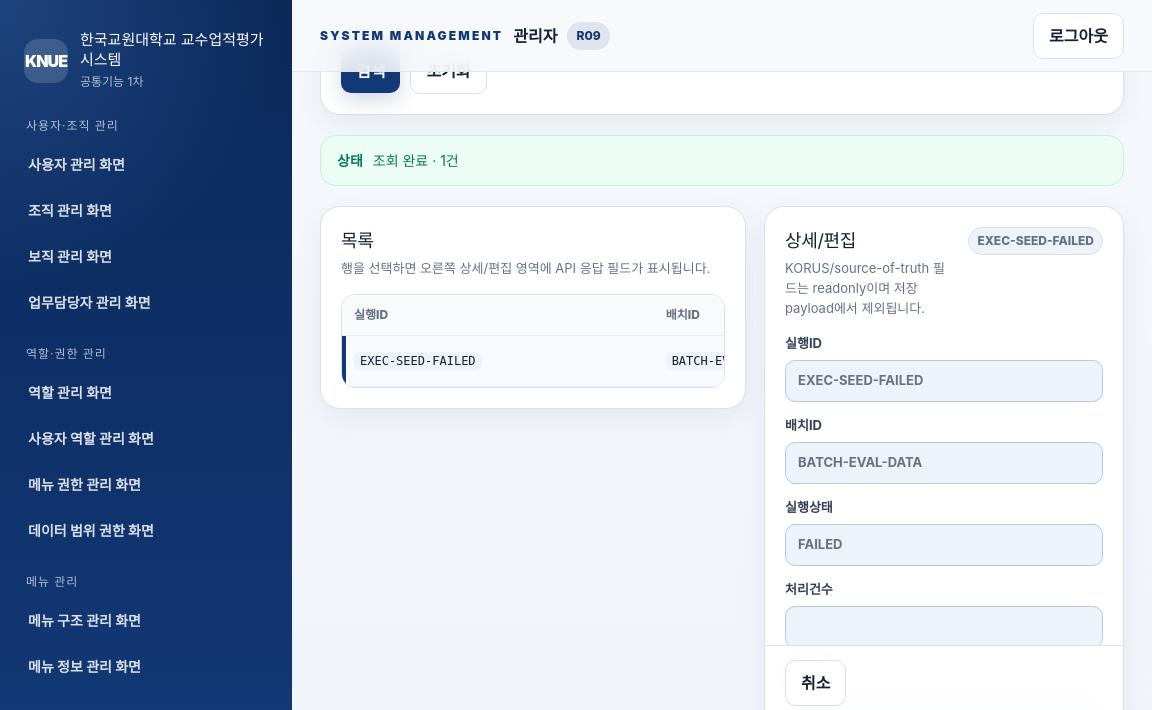
Scenario: 교수업적평가시스템 UI contract › renders batch management routes and loads batch result detail by selected execution
This screenshot has width=1152, height=710.
(page scrolled)
Click the text "EXEC-SEED-FAILED" in the row of "BATCH-EVAL-DATA".
click(418, 361)  # box [354,352,482,370]
(page scrolled)
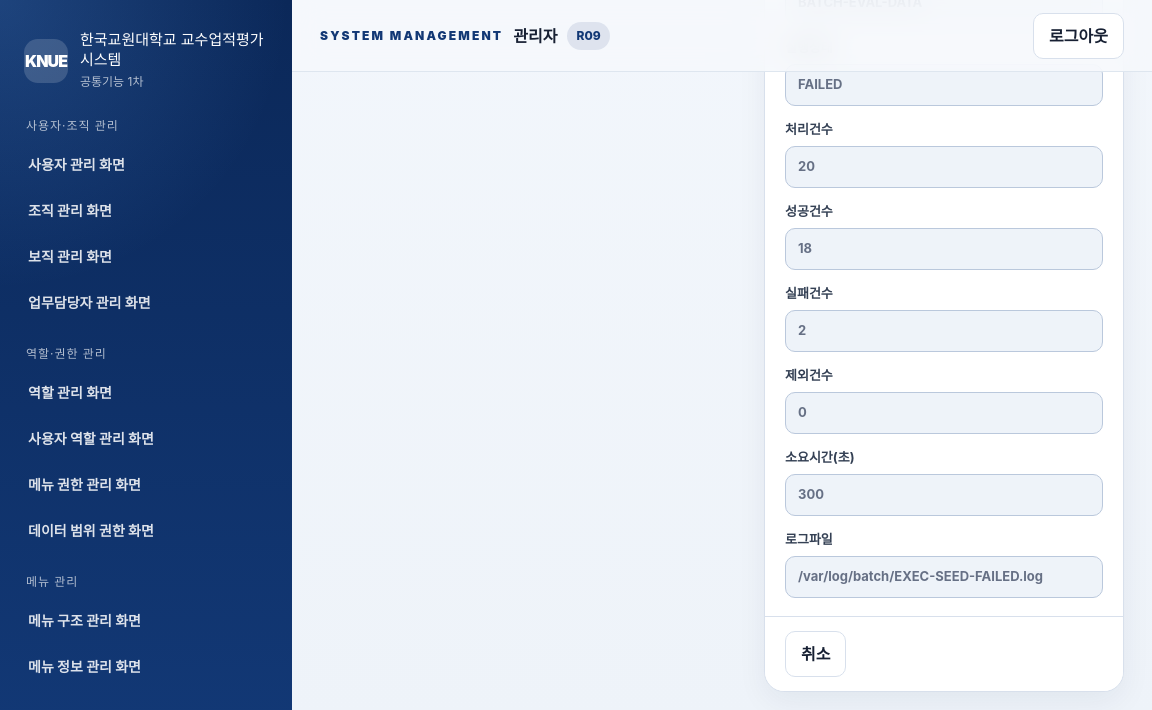
Check: the field showing "300" is shown, box [785,474,1103,516]
